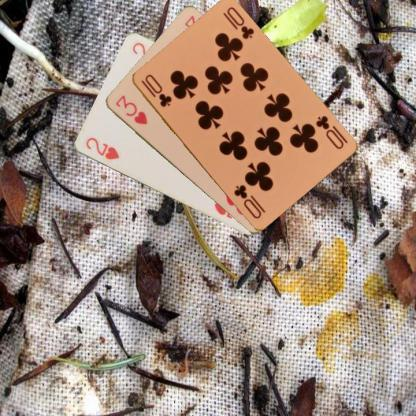10c: (312, 112, 346, 150), (138, 72, 173, 108)
2h: (82, 135, 120, 161)
3h: (112, 92, 149, 126)
